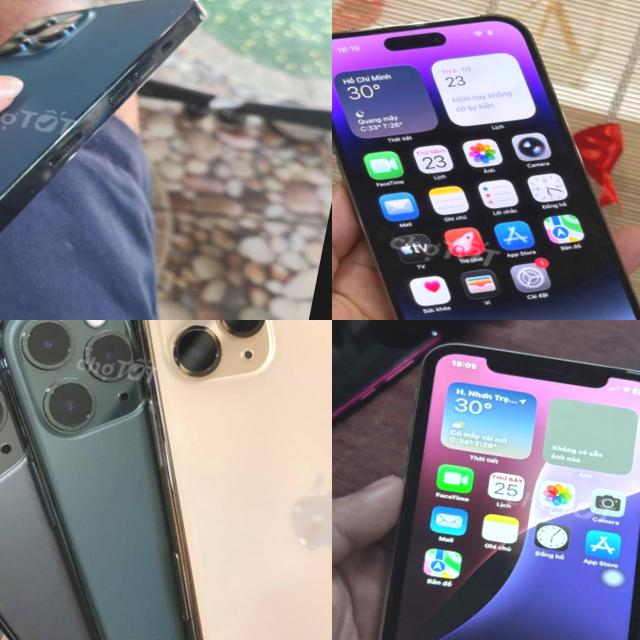gen_12_13: (0, 0, 215, 320)
gen_14: (332, 0, 640, 320), (55, 320, 332, 640)
gen_x_xs: (339, 322, 640, 640)
